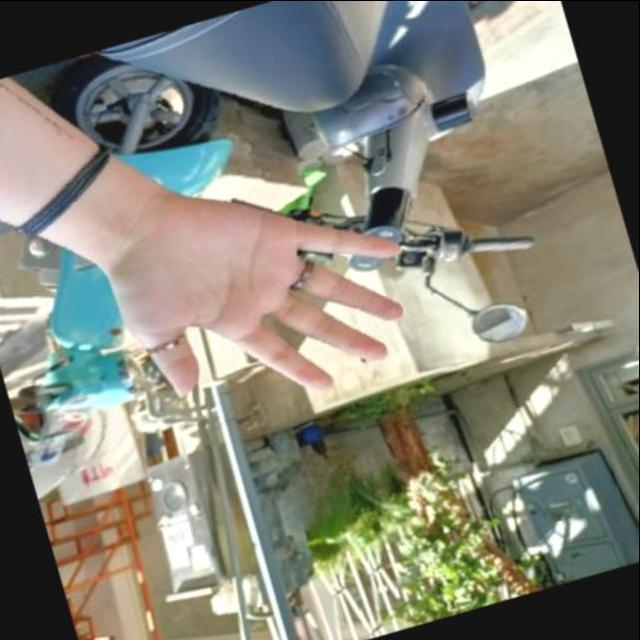hand: (71, 122, 446, 460)
